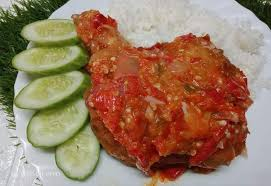ayam_geprek: (76, 12, 244, 184)
